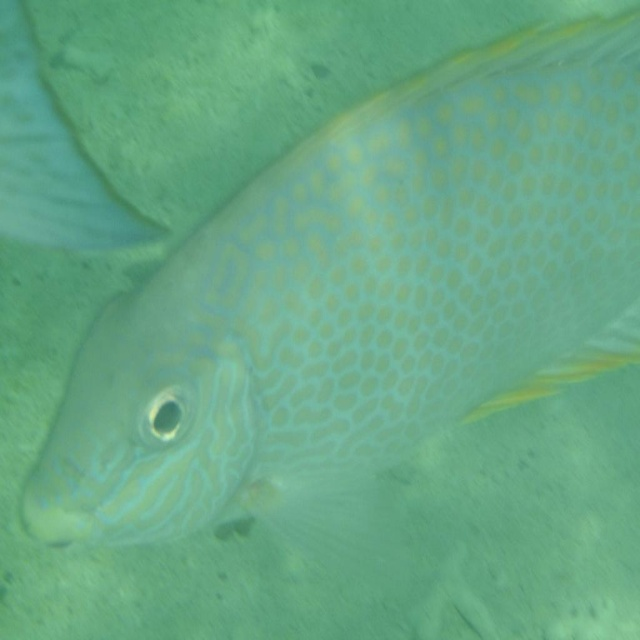Fish: (19, 6, 640, 551)
